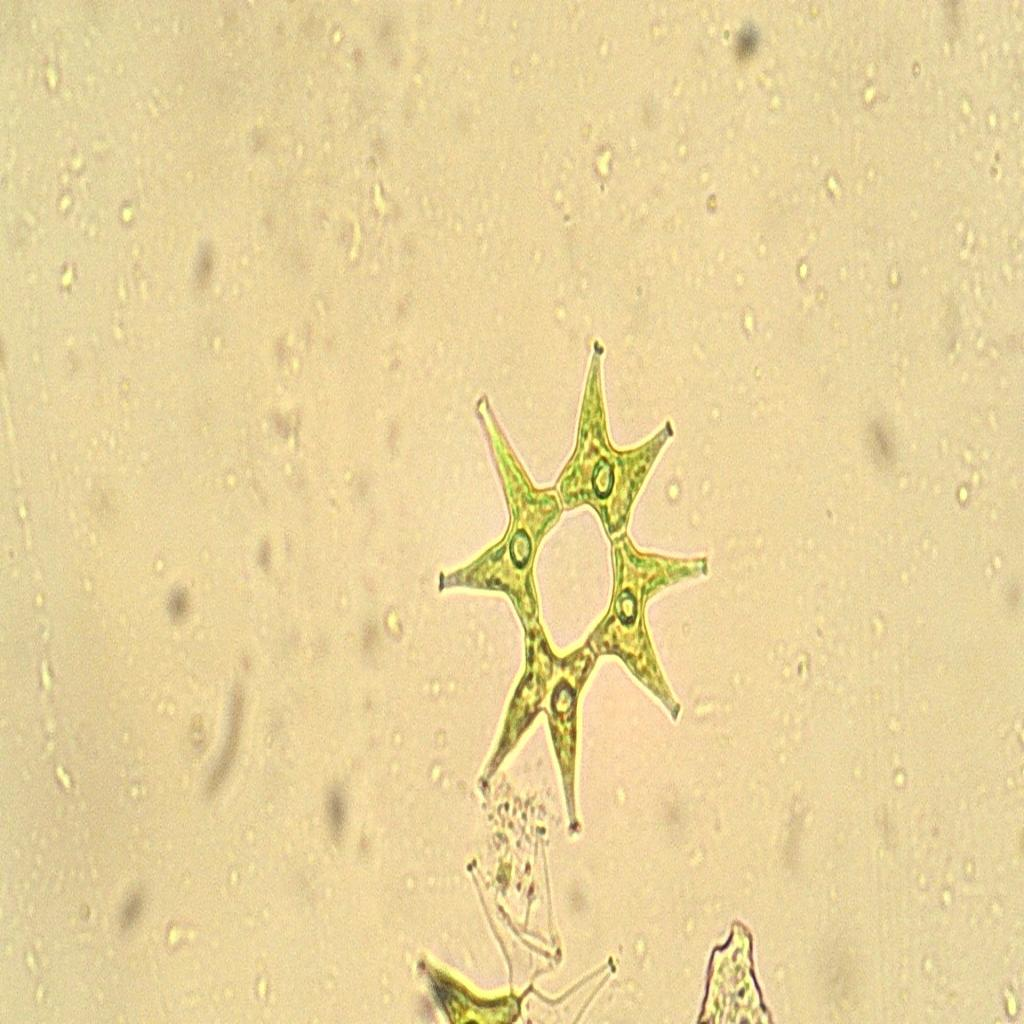Pediastrum_CO: (434, 311, 716, 855)
